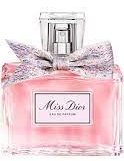dior_miss_dior: (2, 10, 123, 157)
